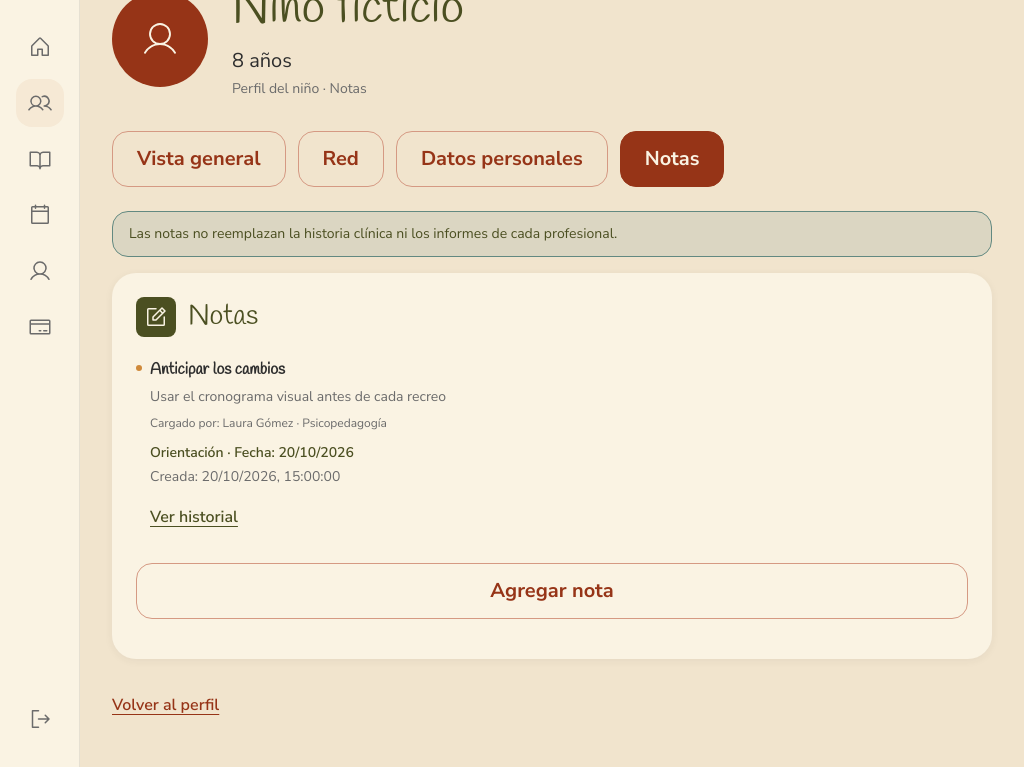
Test: Notas profesionales (4.2) › un profesional ve "Agregar nota" con tipo, fecha, título, texto y visibilidad
This screenshot has width=1024, height=767.
(page scrolled)
Click the button "Agregar nota" at [552, 591], box [136, 563, 968, 619]
(page scrolled)
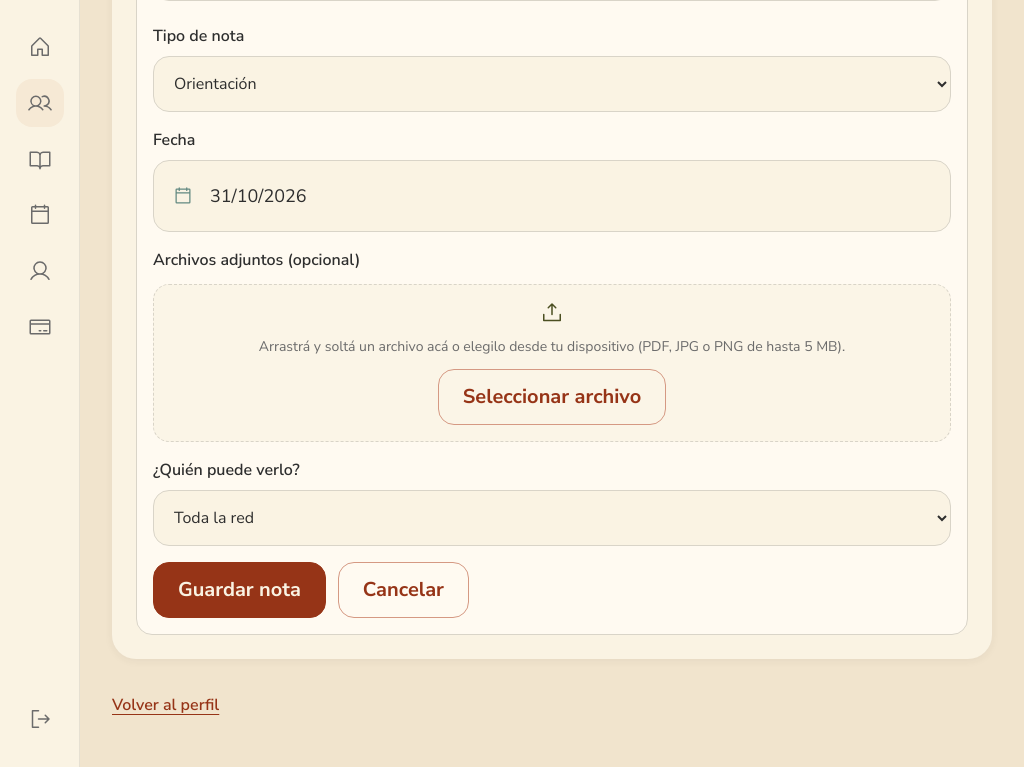
Result: the dropdown labelled "Tipo de nota" shows "Orientación" at [153, 56, 951, 112]
Result: the field labelled "Fecha" is shown at [153, 160, 951, 232]
Result: the dropdown labelled "¿Quién puede verlo?" is shown at [153, 490, 951, 546]
